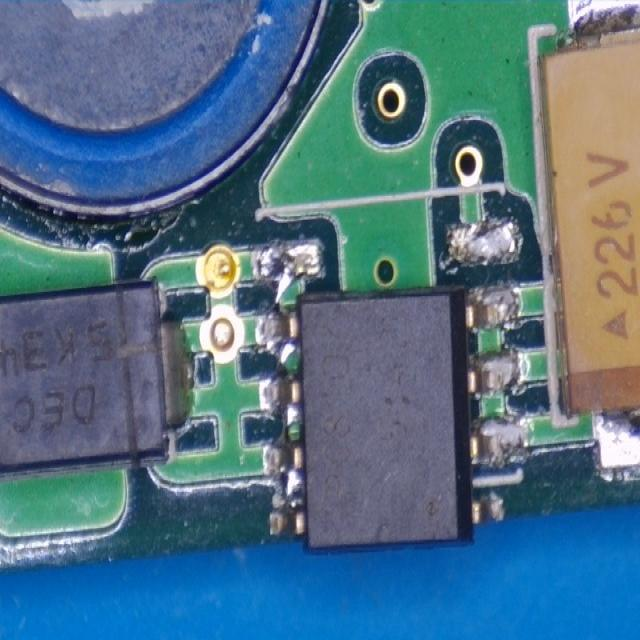Incorrect_installation: (255, 284, 528, 550)
Short_circuit: (254, 239, 323, 509)
